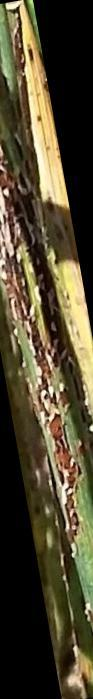Wheat: (28, 414, 85, 549), (10, 300, 77, 391), (0, 140, 30, 283)
